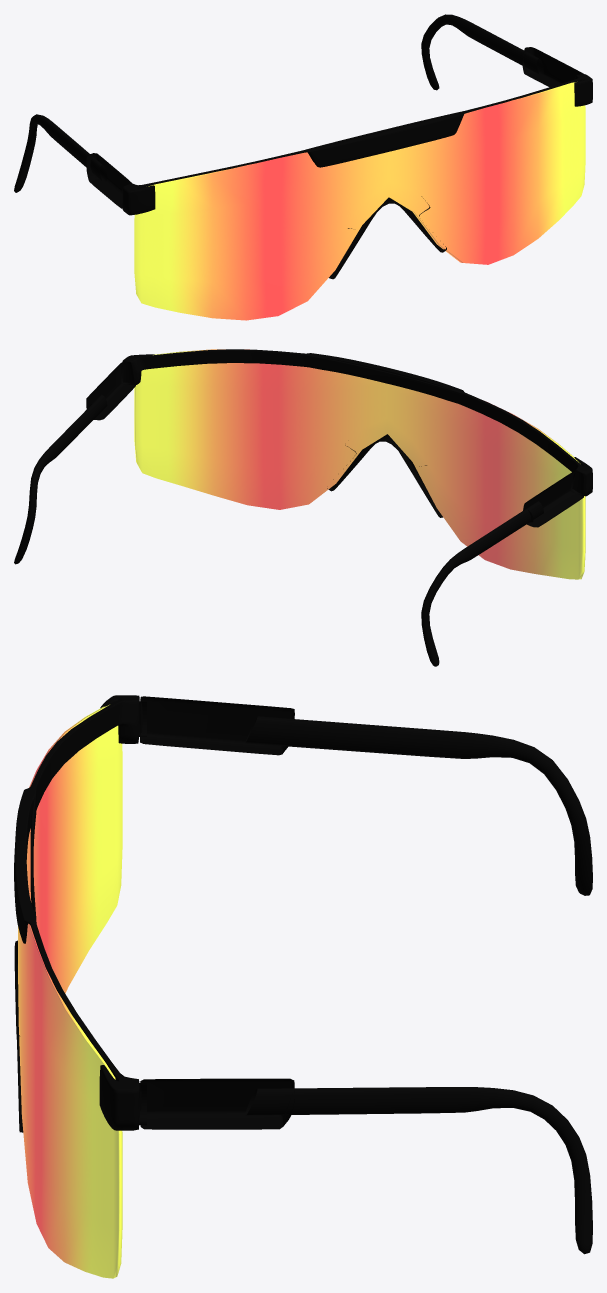
Rendered from Viper-Red.glb.
3 views of the same model, one above another, from view 1: azimuth 30°, elevation 25°; view 2: azimuth 150°, elevation 25°; view 3: azimuth 270°, elevation 25° (orthographic). The views are drawn at different scales.
Visible parts, largest first — view 1: Object_5; view 2: Object_5; view 3: Object_5.
Part boxes in pixels (x1,y1,x2,y2): Object_5: [14, 14, 592, 320]; Object_5: [14, 349, 592, 666]; Object_5: [14, 695, 592, 1278].
Size of the model in its own units: 0.5484 by 0.1823 by 0.3388.
2 materials, 1 textured.
